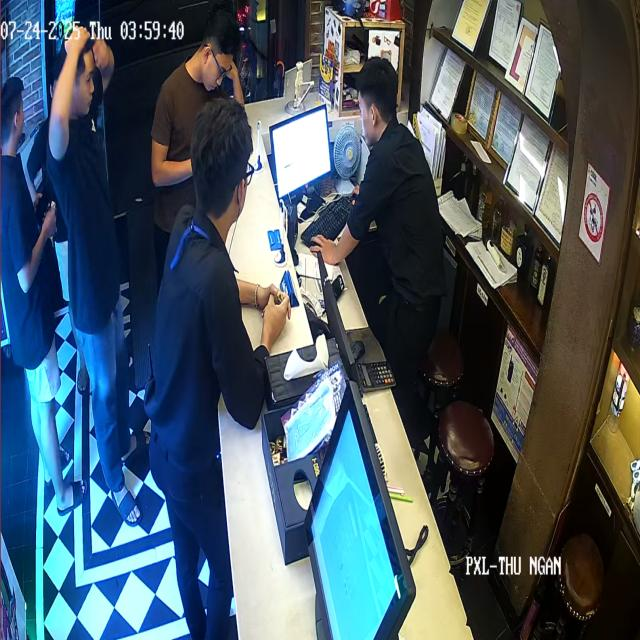khach: (44, 18, 148, 525), (3, 69, 92, 526), (148, 5, 242, 257)
nhan vien: (145, 113, 292, 640), (311, 46, 446, 423)
